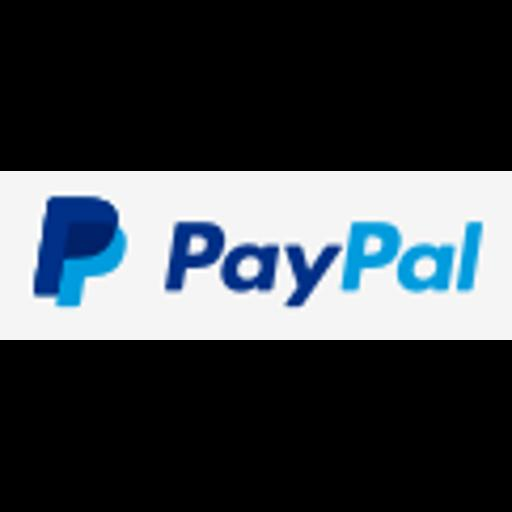PayPal: (0, 171, 512, 340)
